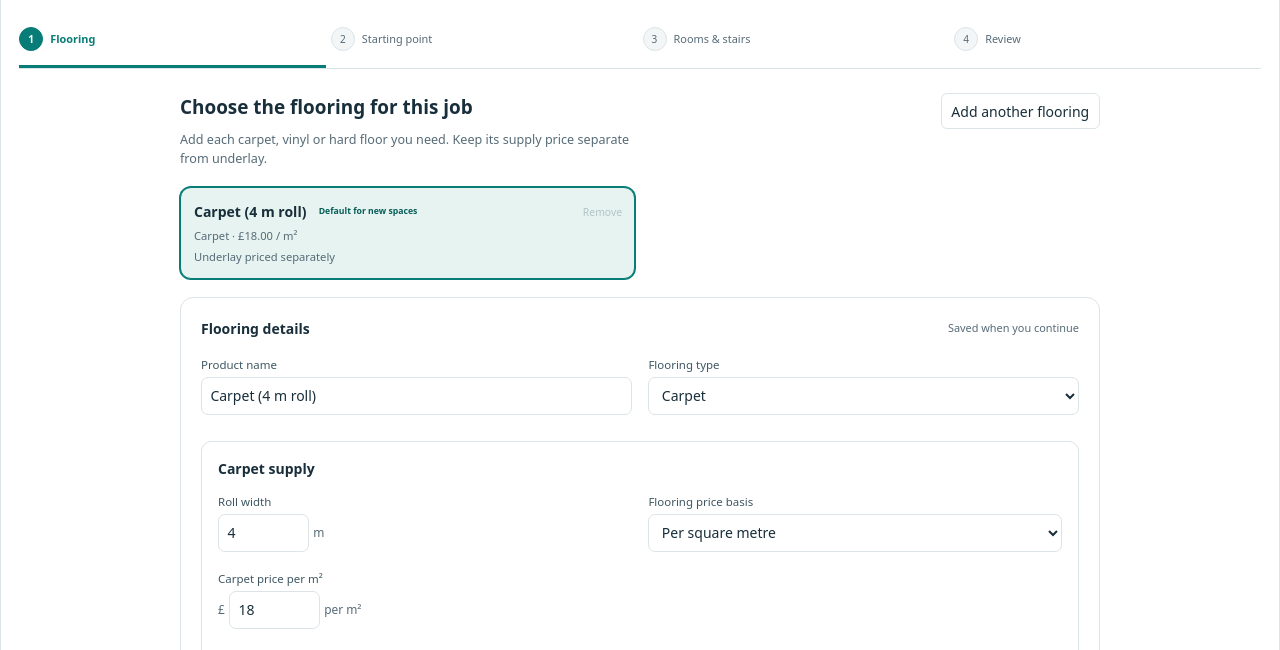
guided project setup › stages product changes and commits them only at the flooring step
Replace the text in the field named "Guide product name" with "Natural wool" at (416, 396), box [201, 377, 632, 415]
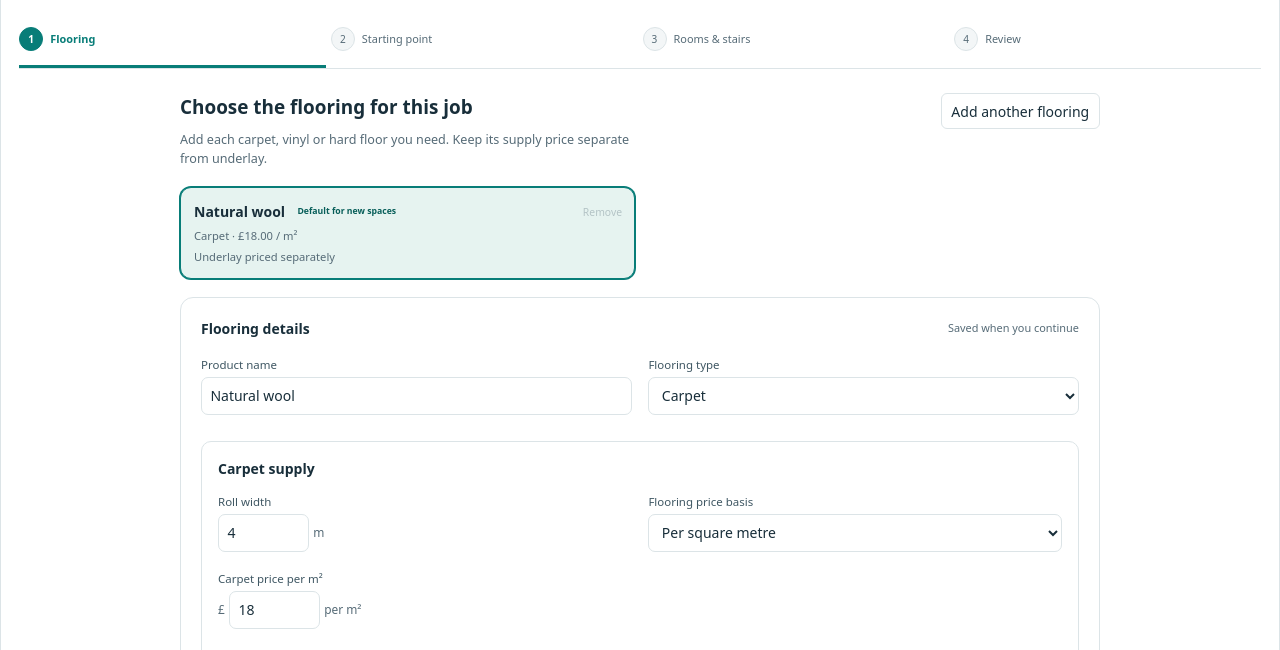
Replace the text in the field named "Guide roll width" with "5" at (264, 533), box [218, 514, 309, 552]
(page scrolled)
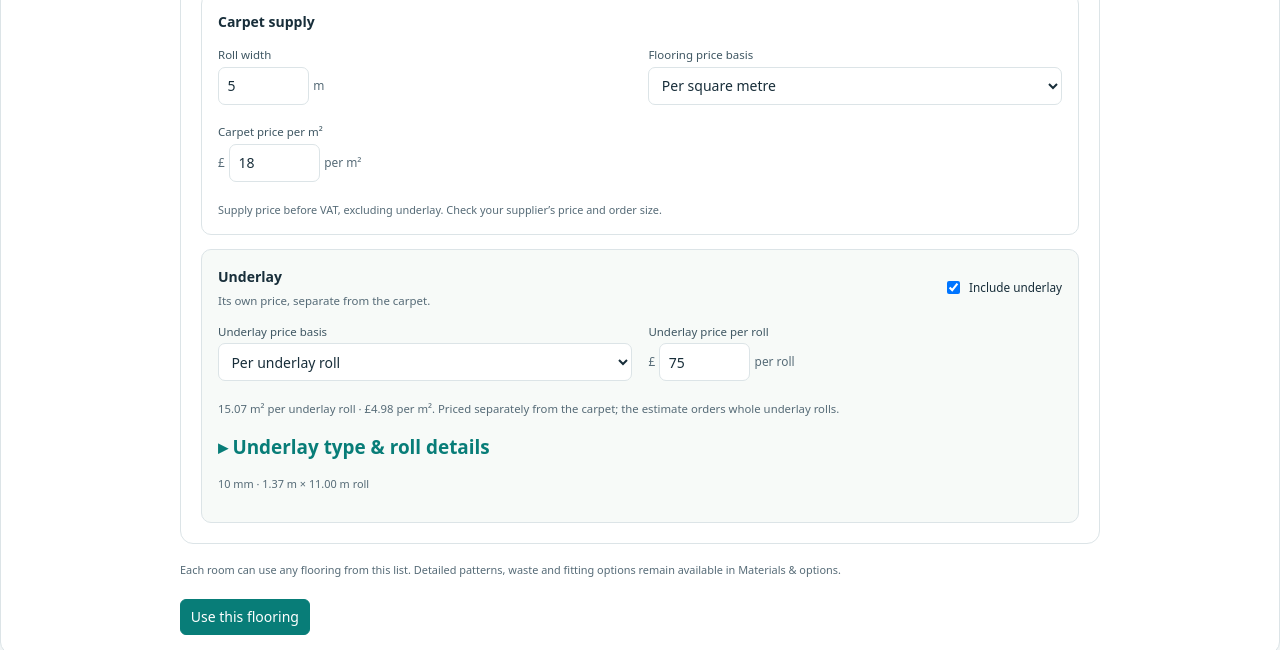
Click the button "Use this flooring" at (245, 617), box [180, 599, 310, 635]
(page scrolled)
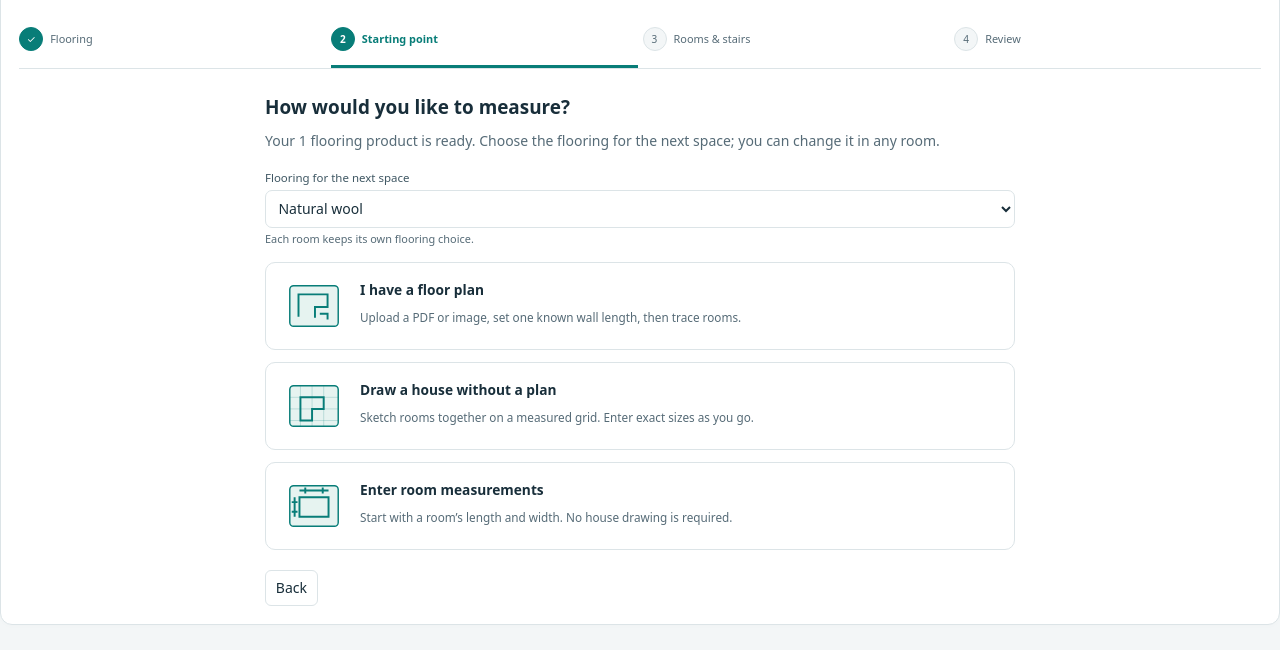
Check: the heading "How would you like to measure?" is shown, box [265, 94, 570, 120]
